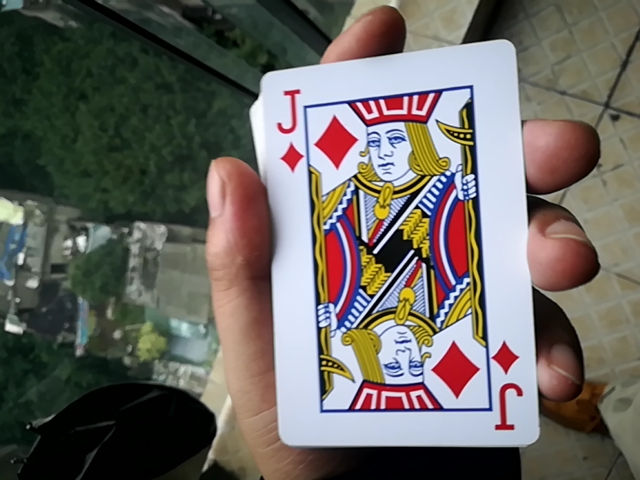fk j: (236, 52, 551, 441)
